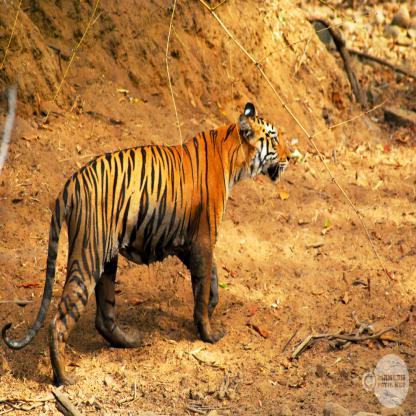Tiger: (0, 101, 292, 388)
